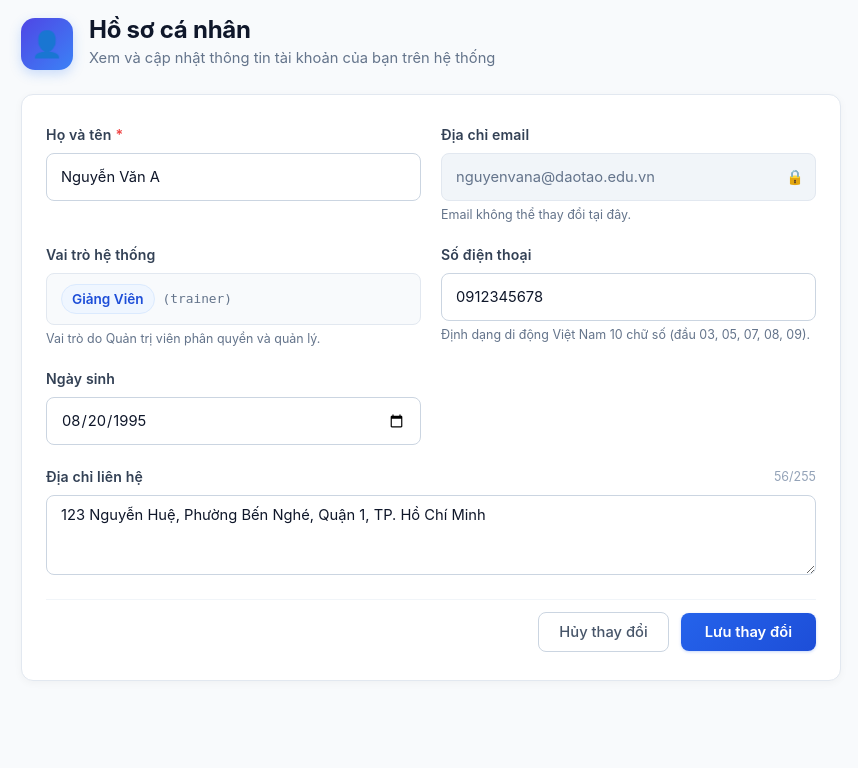
Scenario: SCRUM-120: Frontend Hồ sơ cá nhân (Activity A6) › 16. success message: hiển thị thông báo thành công sau khi lưu
Replace the text in the field with test id "input-profile-name" with "Tên Đã Đổi" at [234, 177], box [46,153,421,201]
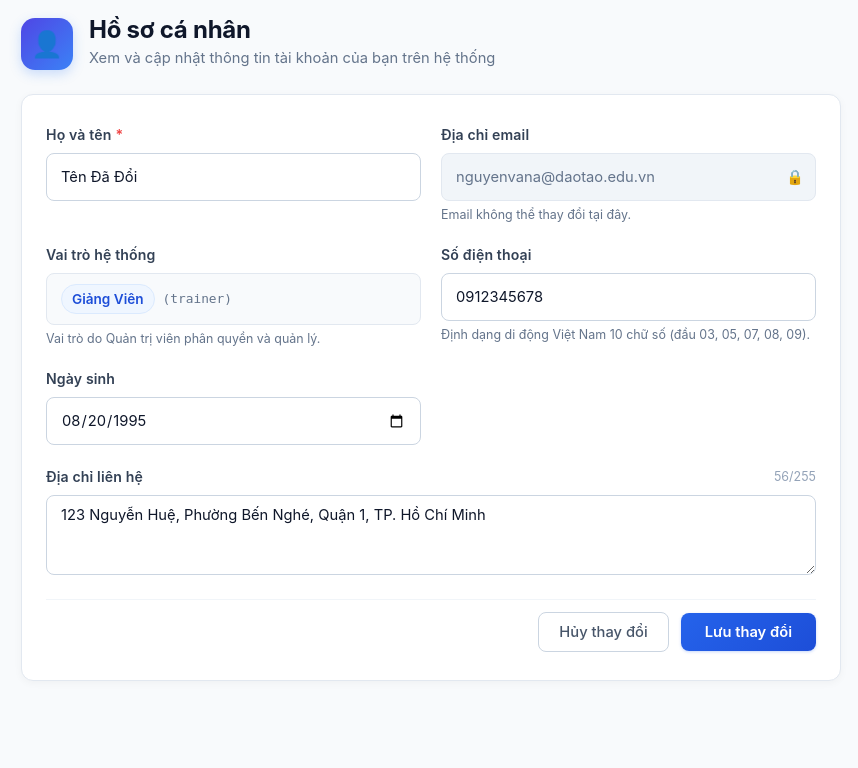
Click the button with test id "btn-save-profile" at [748, 632], box [681,613,816,651]
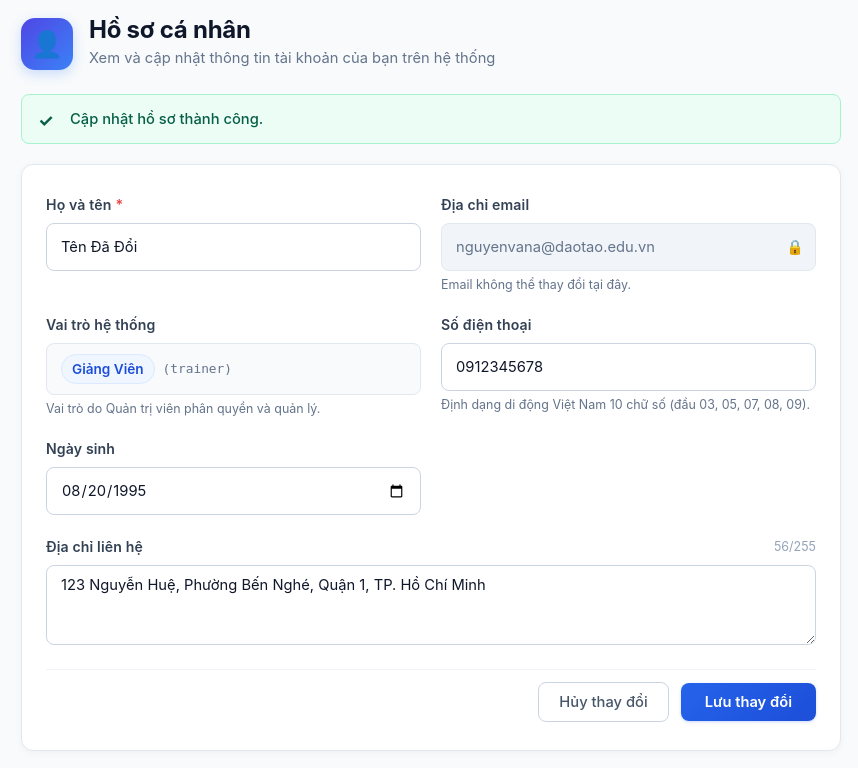
Now the message with test id "profile-success-message" shows "Cập nhật hồ sơ thành công.", box [70,110,263,128]
